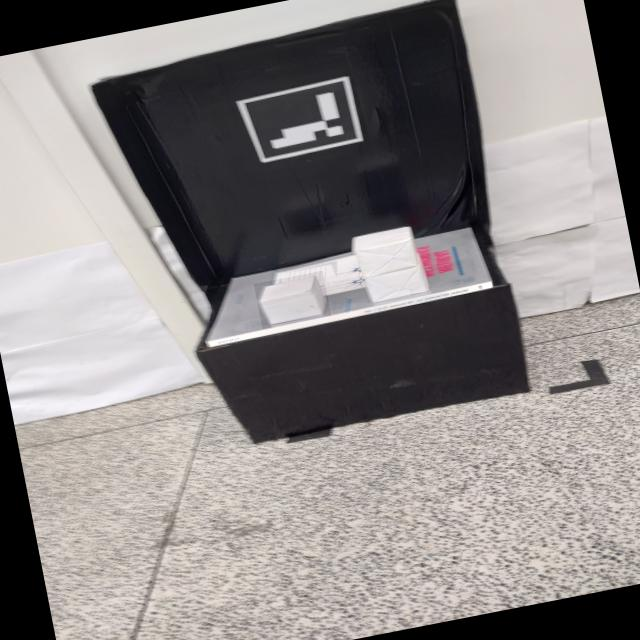bale: (254, 271, 332, 329), (352, 224, 422, 278), (362, 264, 430, 304)
